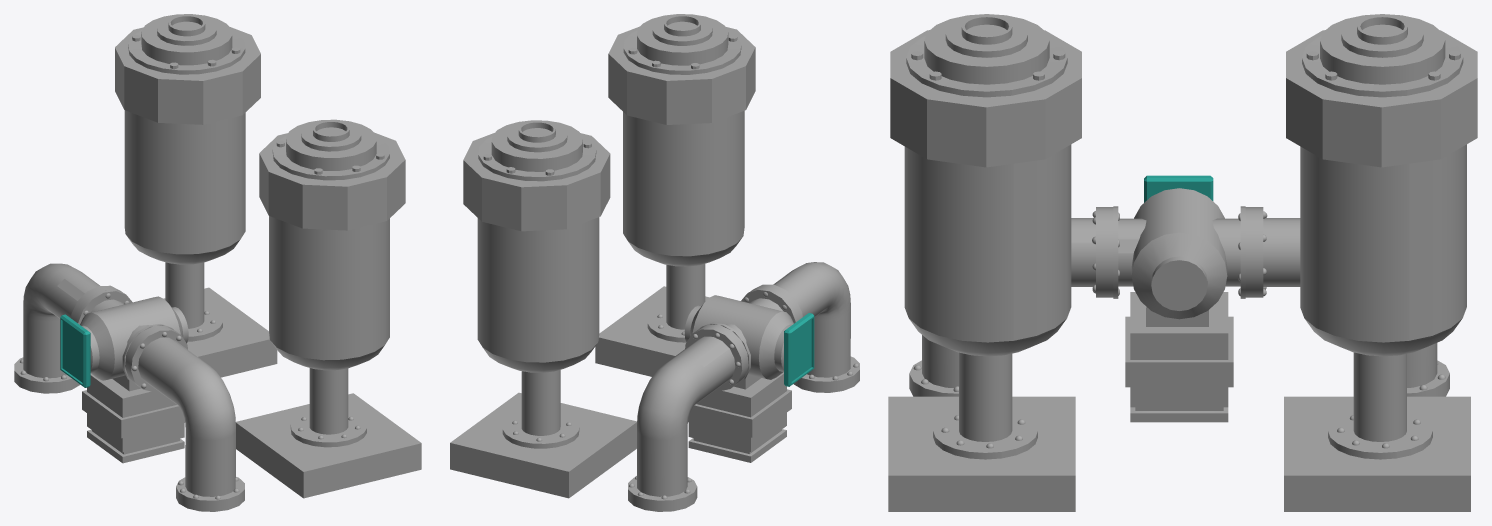
Rendered from Maquina1.fbx.
3 renders of one model, left to right at view 1: azimuth 30°, elevation 25°; view 2: azimuth 150°, elevation 25°; view 3: azimuth 270°, elevation 25°, orthographic. The views are drawn at different scales.
Parts seen in each view (by area): view 1: Maquina:MAQUINATubo2pCylinder4, Maquina:MAQUINATubo3pCylinder4, Maquina:tubo_Lpasted__Tubo_LTubo_L2, Maquina:MAQUINATubo3Base1, Maquina:MAQUINATubo3pCylinder3, Maquina:MAQUINATubo2pCylinder3, Maquina:Maquina_1MAQUINABase, Maquina:tubo_LTubo_L, Maquina:MAQUINATubo3pCylinder5group3, Maquina:MAQUINATubo2pCylinder5group3, Maquina:ValvulaMaquina_1MAQUINA, Maquina:MAQUINATubo2Base1 (+4 smaller); view 2: Maquina:MAQUINATubo2pCylinder4, Maquina:MAQUINATubo3pCylinder4, Maquina:tubo_LTubo_L, Maquina:MAQUINATubo2Base1, Maquina:MAQUINATubo3pCylinder3, Maquina:MAQUINATubo2pCylinder3, Maquina:Maquina_1MAQUINABase, Maquina:tubo_Lpasted__Tubo_LTubo_L2, Maquina:MAQUINATubo2pCylinder5group3, Maquina:MAQUINATubo3pCylinder5group3, Maquina:ValvulaMaquina_1MAQUINA, Maquina:MAQUINATubo3Base1 (+4 smaller); view 3: Maquina:MAQUINATubo3pCylinder4, Maquina:MAQUINATubo2pCylinder4, Maquina:MAQUINATubo3Base1, Maquina:MAQUINATubo2Base1, Maquina:MAQUINATubo3pCylinder3, Maquina:MAQUINATubo2pCylinder3, Maquina:Maquina_1MAQUINABase, Maquina:MAQUINATubo3pCylinder5group3, Maquina:MAQUINATubo2pCylinder5group3, Maquina:ValvulaMaquina_1MAQUINA, Maquina:MAQUINApCylinder13Tubo2, Maquina:MAQUINApCylinder12Tubo3 (+4 smaller).
Part boxes in pixels (box(x1,y1,x2,y2)): Maquina:MAQUINATubo2pCylinder4: box(124, 110, 245, 264); Maquina:MAQUINATubo3pCylinder4: box(269, 216, 389, 370); Maquina:tubo_Lpasted__Tubo_LTubo_L2: box(125, 325, 244, 511); Maquina:MAQUINATubo3Base1: box(236, 393, 421, 498); Maquina:MAQUINATubo3pCylinder3: box(259, 132, 405, 230); Maquina:MAQUINATubo2pCylinder3: box(115, 26, 260, 124); Maquina:Maquina_1MAQUINABase: box(82, 373, 185, 463); Maquina:tubo_LTubo_L: box(14, 263, 122, 393); Maquina:MAQUINATubo3pCylinder5group3: box(272, 119, 389, 180); Maquina:MAQUINATubo2pCylinder5group3: box(128, 14, 245, 74); Maquina:ValvulaMaquina_1MAQUINA: box(80, 296, 188, 380); Maquina:MAQUINATubo2Base1: box(164, 287, 277, 377); Maquina:MAQUINATubo2pCylinder4: box(477, 217, 599, 372); Maquina:MAQUINATubo3pCylinder4: box(623, 111, 744, 266); Maquina:tubo_LTubo_L: box(628, 324, 748, 511); Maquina:MAQUINATubo2Base1: box(450, 392, 636, 498); Maquina:MAQUINATubo3pCylinder3: box(608, 26, 755, 124); Maquina:MAQUINATubo2pCylinder3: box(463, 133, 610, 231); Maquina:Maquina_1MAQUINABase: box(688, 372, 791, 462); Maquina:tubo_Lpasted__Tubo_LTubo_L2: box(750, 262, 859, 392); Maquina:MAQUINATubo2pCylinder5group3: box(478, 120, 596, 181); Maquina:MAQUINATubo3pCylinder5group3: box(623, 14, 741, 74); Maquina:ValvulaMaquina_1MAQUINA: box(684, 295, 793, 379); Maquina:MAQUINATubo3Base1: box(595, 286, 709, 376); Maquina:MAQUINATubo3pCylinder4: box(904, 144, 1071, 356); Maquina:MAQUINATubo2pCylinder4: box(1300, 144, 1466, 356); Maquina:MAQUINATubo3Base1: box(888, 396, 1075, 511); Maquina:MAQUINATubo2Base1: box(1284, 396, 1470, 511); Maquina:MAQUINATubo3pCylinder3: box(890, 30, 1081, 167); Maquina:MAQUINATubo2pCylinder3: box(1286, 30, 1477, 167); Maquina:Maquina_1MAQUINABase: box(1125, 292, 1233, 422); Maquina:MAQUINATubo3pCylinder5group3: box(906, 14, 1067, 97); Maquina:MAQUINATubo2pCylinder5group3: box(1302, 14, 1463, 97); Maquina:ValvulaMaquina_1MAQUINA: box(1131, 188, 1227, 319); Maquina:MAQUINApCylinder13Tubo2: box(1328, 352, 1432, 459); Maquina:MAQUINApCylinder12Tubo3: box(933, 352, 1037, 459).
Bounding box in the file's own units: 3.99 × 5.03 × 5.85.
